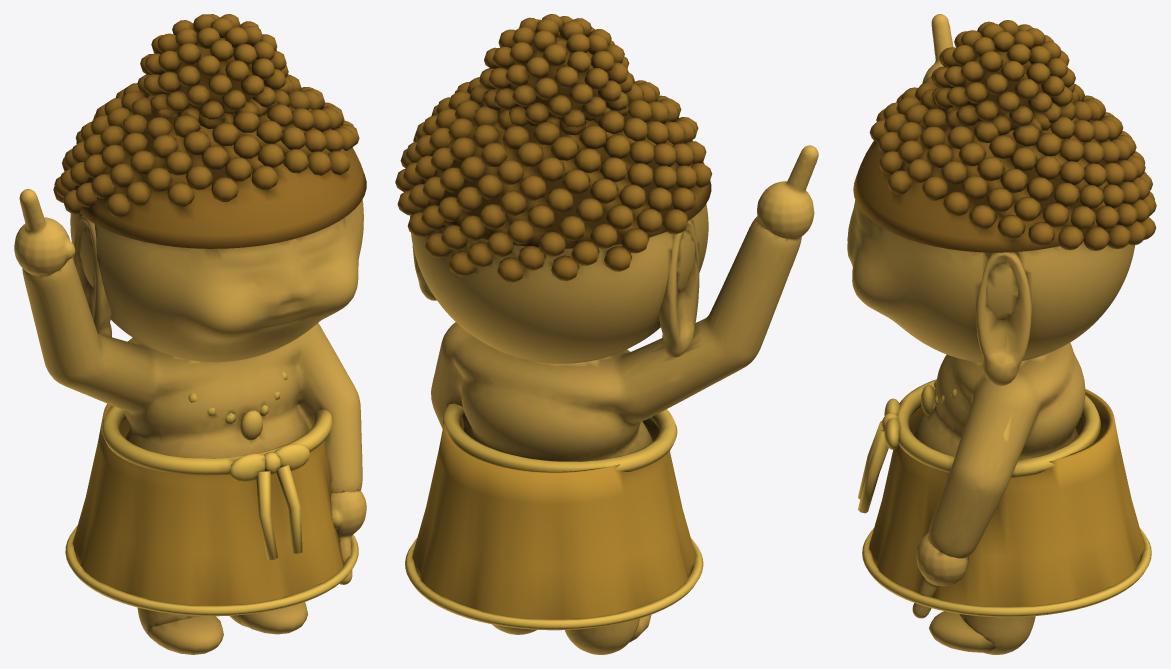
File: taizi_q.glb
3 views of the same model, side by side, from view 1: azimuth 30°, elevation 25°; view 2: azimuth 150°, elevation 25°; view 3: azimuth 270°, elevation 25° (orthographic). The views are drawn at different scales.
Parts seen in each view (by area): view 1: TZ_Curls, TZ_Body, TZ_Skirt, TZ_HeadMesh, TZ_HairCap, TZ_Sash, TZ_Feet, TZ_HandR, TZ_Ears, TZ_HandL, TZ_Necklace, TZ_Ushnisha; view 2: TZ_Curls, TZ_Skirt, TZ_Body, TZ_HeadMesh, TZ_Sash, TZ_HairCap, TZ_Ears, TZ_HandR, TZ_Ushnisha; view 3: TZ_Curls, TZ_Skirt, TZ_HeadMesh, TZ_Body, TZ_HairCap, TZ_Sash, TZ_Ears, TZ_HandL, TZ_Feet, TZ_HandR, TZ_Ushnisha, TZ_Necklace.
Part boxes in pixels (<box>): TZ_Curls: <box>53,14,359,217</box>; TZ_Body: <box>22,257,362,641</box>; TZ_Skirt: <box>72,403,351,605</box>; TZ_HeadMesh: <box>70,199,363,362</box>; TZ_HairCap: <box>74,105,366,248</box>; TZ_Sash: <box>65,406,358,616</box>; TZ_Feet: <box>147,602,308,654</box>; TZ_HandR: <box>14,189,75,275</box>; TZ_Ears: <box>72,215,111,337</box>; TZ_HandL: <box>331,490,366,584</box>; TZ_Necklace: <box>188,371,287,440</box>; TZ_Ushnisha: <box>161,33,264,110</box>; TZ_Curls: <box>395,14,711,282</box>; TZ_Skirt: <box>412,415,695,619</box>; TZ_Body: <box>431,216,801,654</box>; TZ_HeadMesh: <box>410,204,708,363</box>; TZ_Sash: <box>405,403,703,630</box>; TZ_HairCap: <box>410,101,711,248</box>; TZ_Ears: <box>412,220,699,357</box>; TZ_HandR: <box>757,145,818,239</box>; TZ_Ushnisha: <box>507,31,605,119</box>; TZ_Curls: <box>869,20,1156,250</box>; TZ_Skirt: <box>869,389,1144,606</box>; TZ_HeadMesh: <box>847,200,1135,362</box>; TZ_Body: <box>914,342,1085,654</box>; TZ_HairCap: <box>853,104,1132,252</box>; TZ_Sash: <box>858,379,1151,617</box>; TZ_Ears: <box>976,252,1031,385</box>; TZ_HandL: <box>912,532,968,618</box>; TZ_Feet: <box>929,611,996,652</box>; TZ_HandR: <box>922,14,953,82</box>; TZ_Ushnisha: <box>950,47,1051,114</box>; TZ_Necklace: <box>920,380,956,415</box>.
Bounding box in the file's own units: 0.4614 × 0.7491 × 0.3484.
